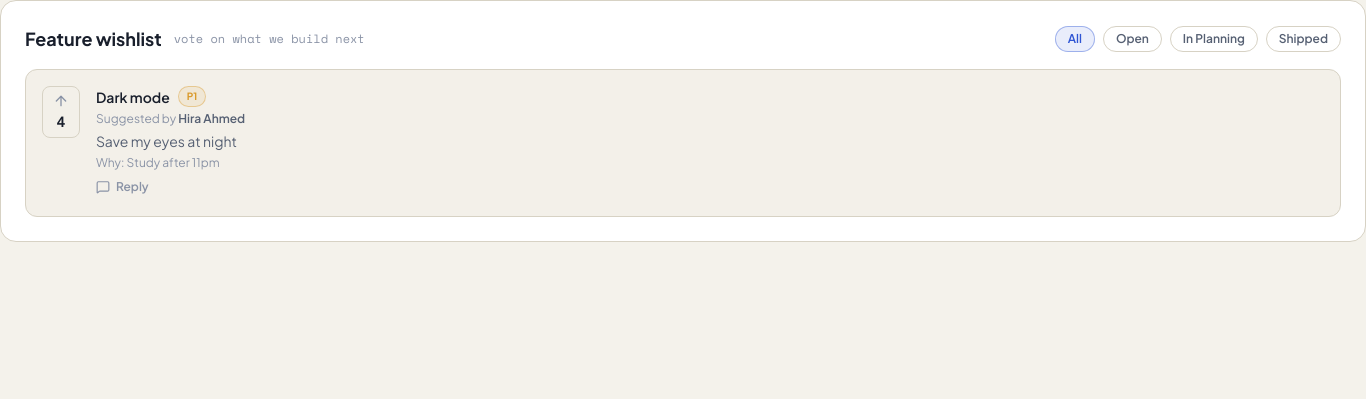
Test: WishlistWall › opens a reply thread from the Reply button
Expected: the heading "Dark mode" is shown, [96,86,170,106]
Click the button "Reply".
click(122, 187)  # box [96,179,149,195]
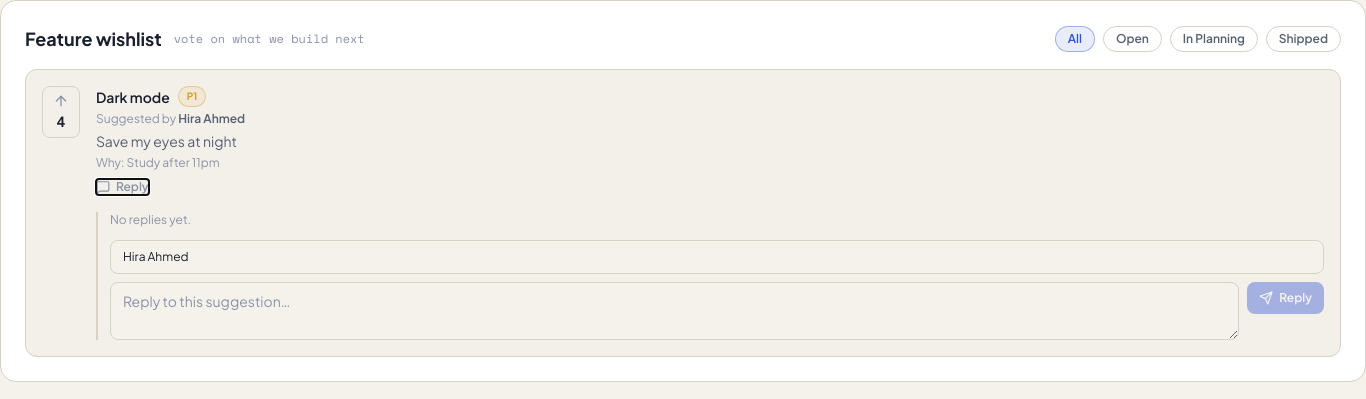
Expected: the text box named "Your reply" is shown, [110,282,1239,340]
